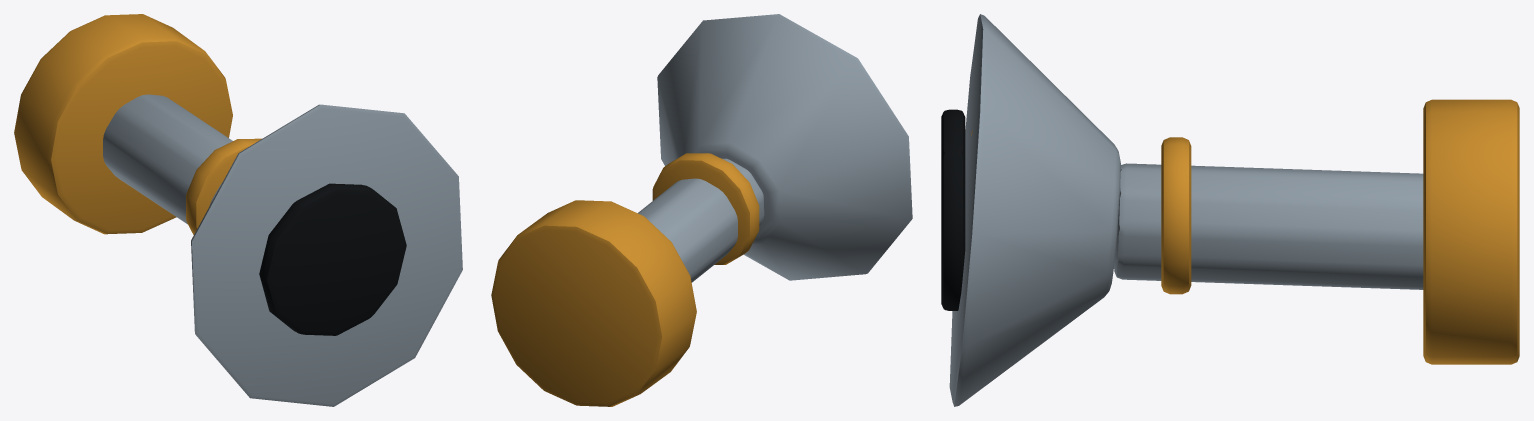
The model's file is FlameB.obj.
3 renders of one model, left to right at view 1: azimuth 30°, elevation 25°; view 2: azimuth 150°, elevation 25°; view 3: azimuth 270°, elevation 25°, orthographic. The views are drawn at different scales.
Parts seen in each view (by area): view 1: FlameB; view 2: FlameB; view 3: FlameB.
Boxes of the visible parts, x1,y1,x2,y2 form: FlameB: (14, 14, 462, 406); FlameB: (491, 14, 912, 406); FlameB: (941, 14, 1519, 406).
Bounding box in the file's own units: 0.6333 × 0.6637 × 0.96.
